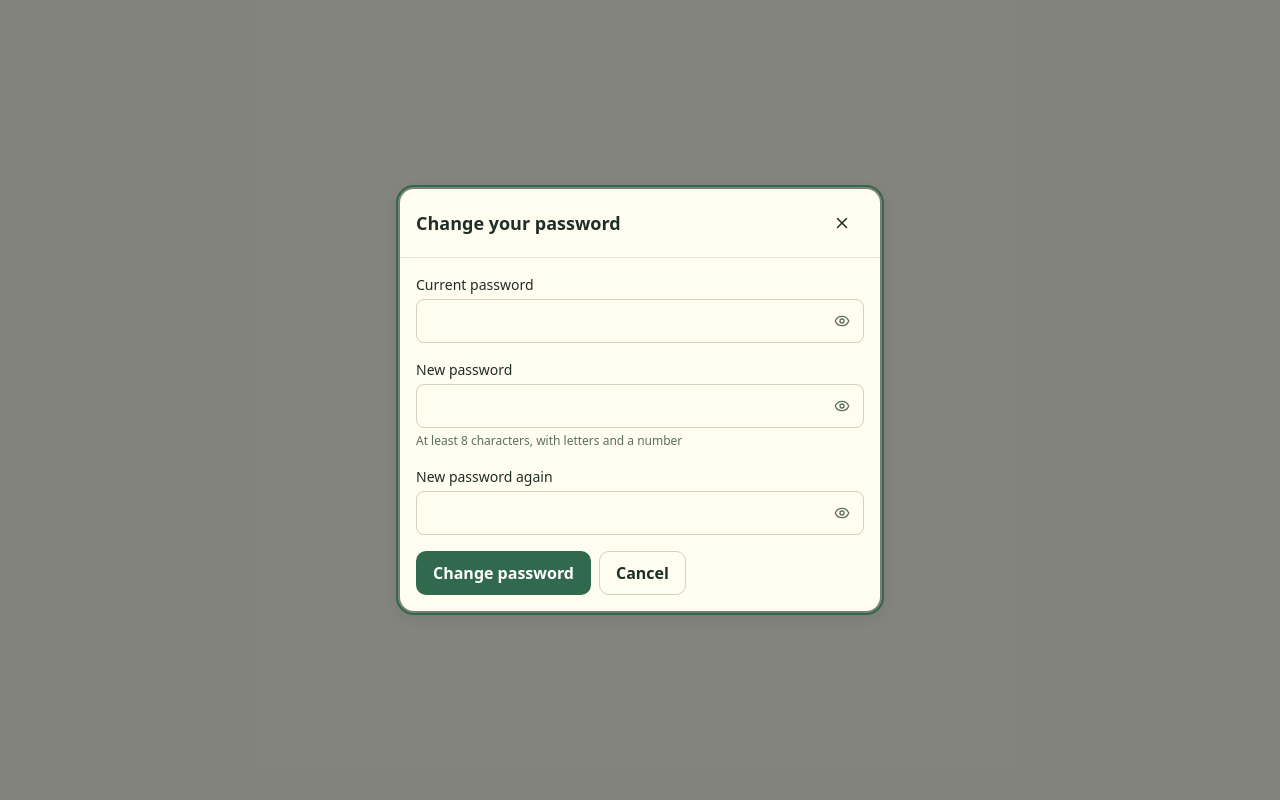
Test: ChangePasswordDialog › asks for the current password
Type "brandnew-pass9" into the password field labelled "New password" at (640, 406), box [416,384,864,428]
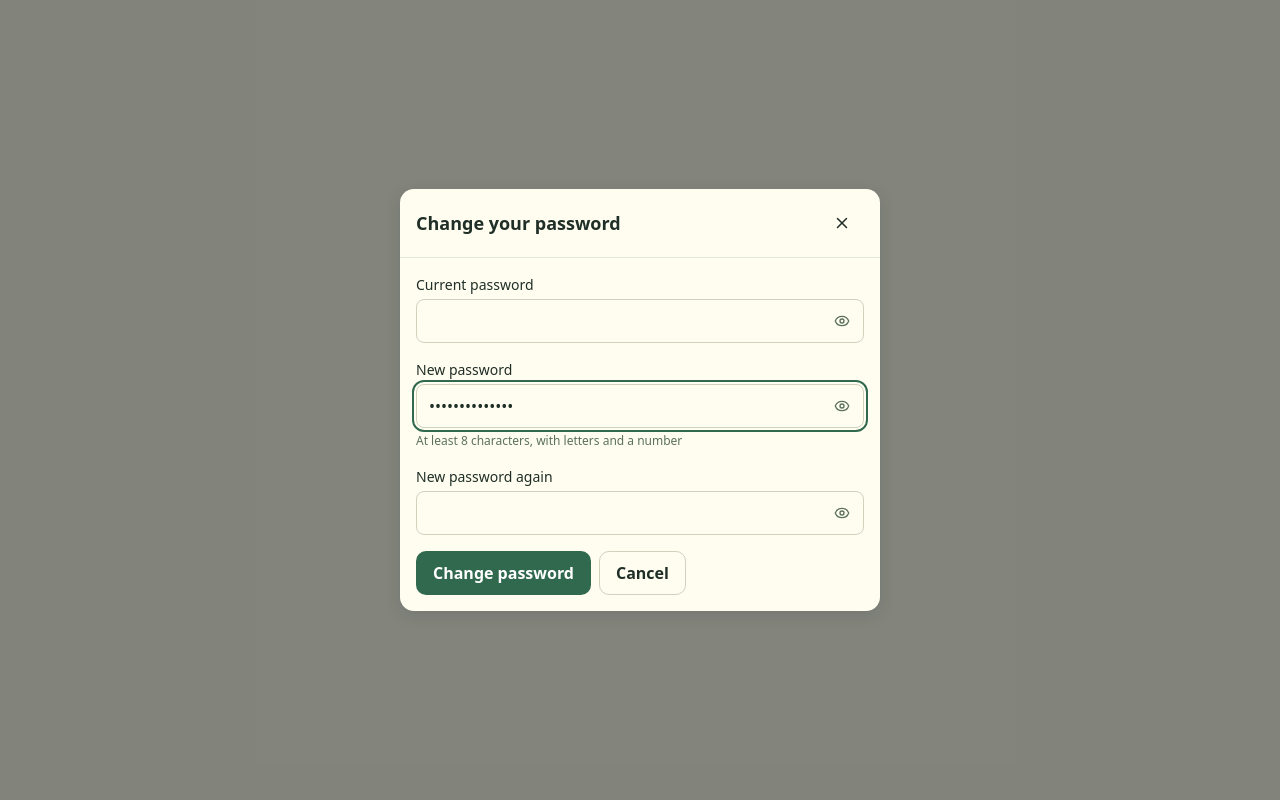
Type "brandnew-pass9" into the password field labelled "New password again" at (640, 513), box [416,491,864,535]
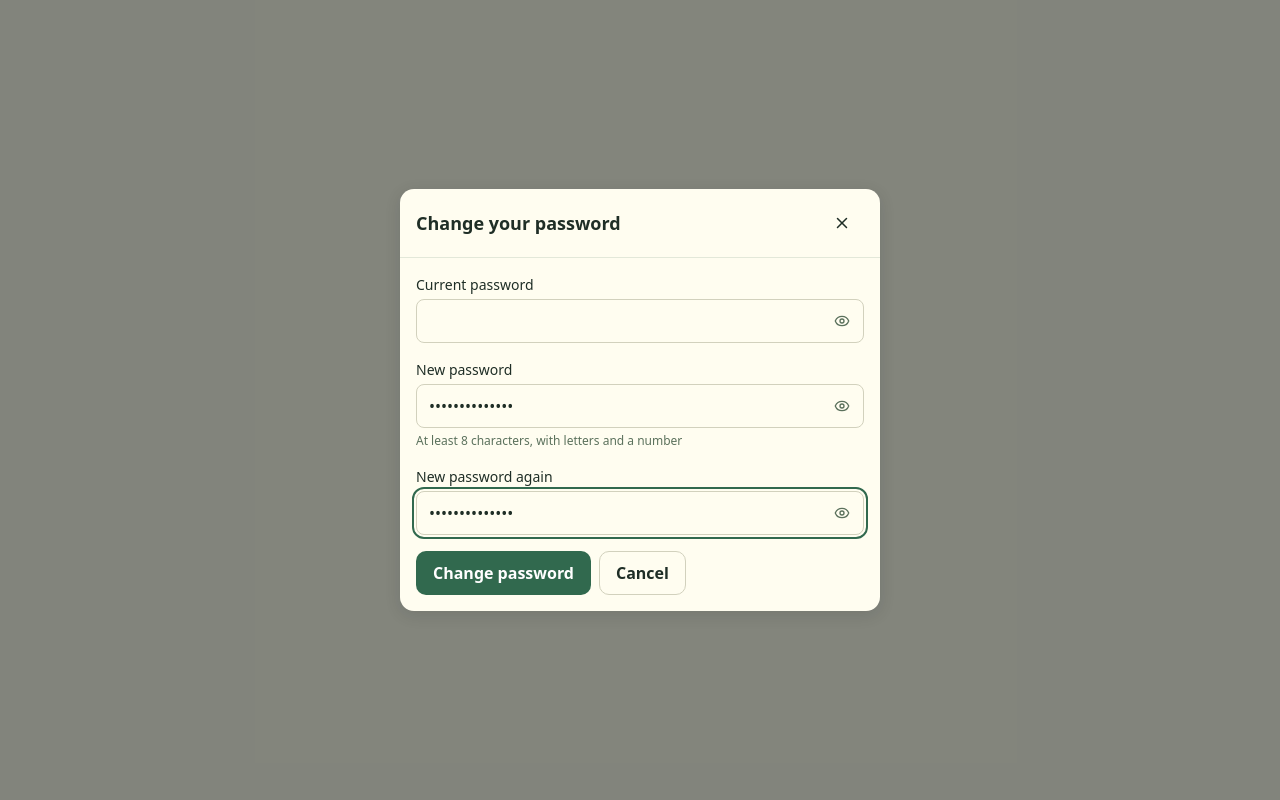
Click the button "Change password" at (504, 573), box [416,551,591,595]
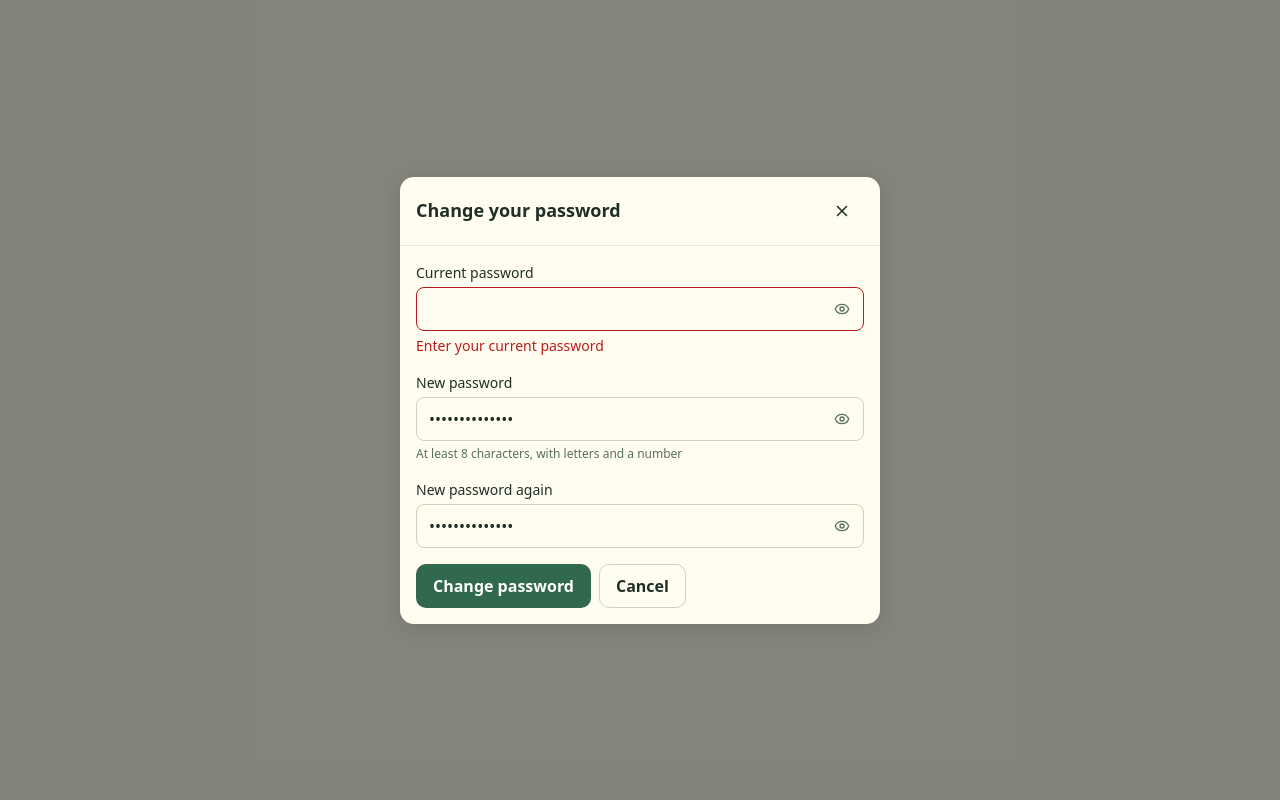
Expected: the text "Enter your current password" is shown, [416,336,604,354]
